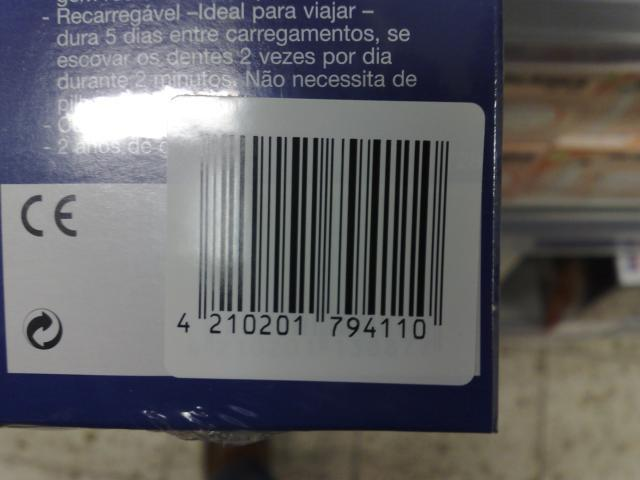Barcode: (169, 126, 472, 349)
